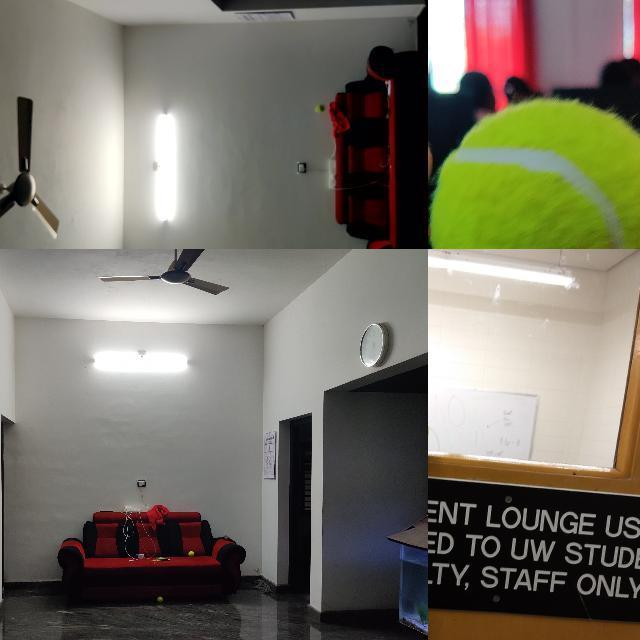tennis-ball: (429, 99, 639, 248), (314, 105, 324, 113), (188, 550, 194, 556), (157, 596, 163, 602)
